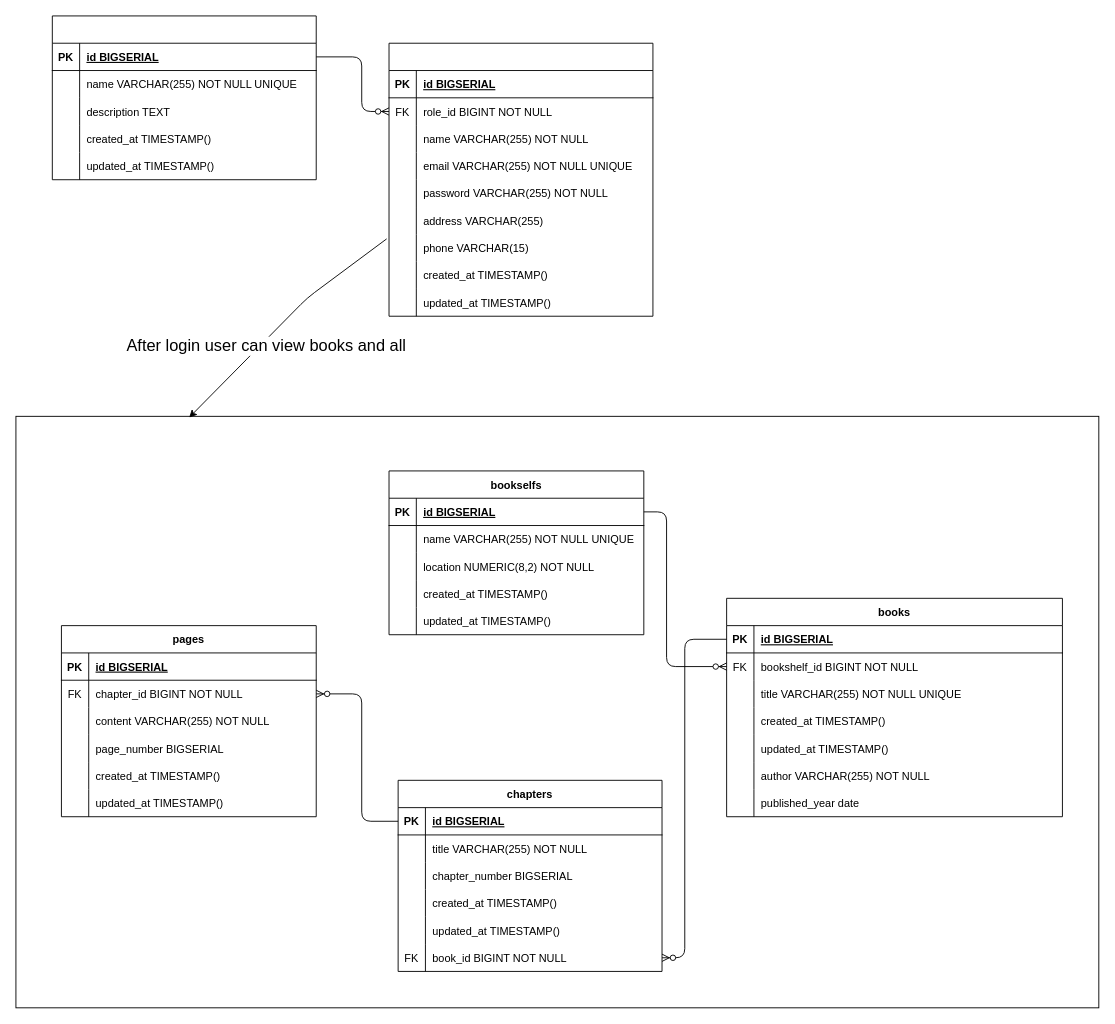
This 1115x1024 diagram has some shape labels left out. Here are the shapes that lost their labels. From the top down, the box of each, then its label:
(51, 15, 316, 180): roles
(388, 42, 653, 316): users
